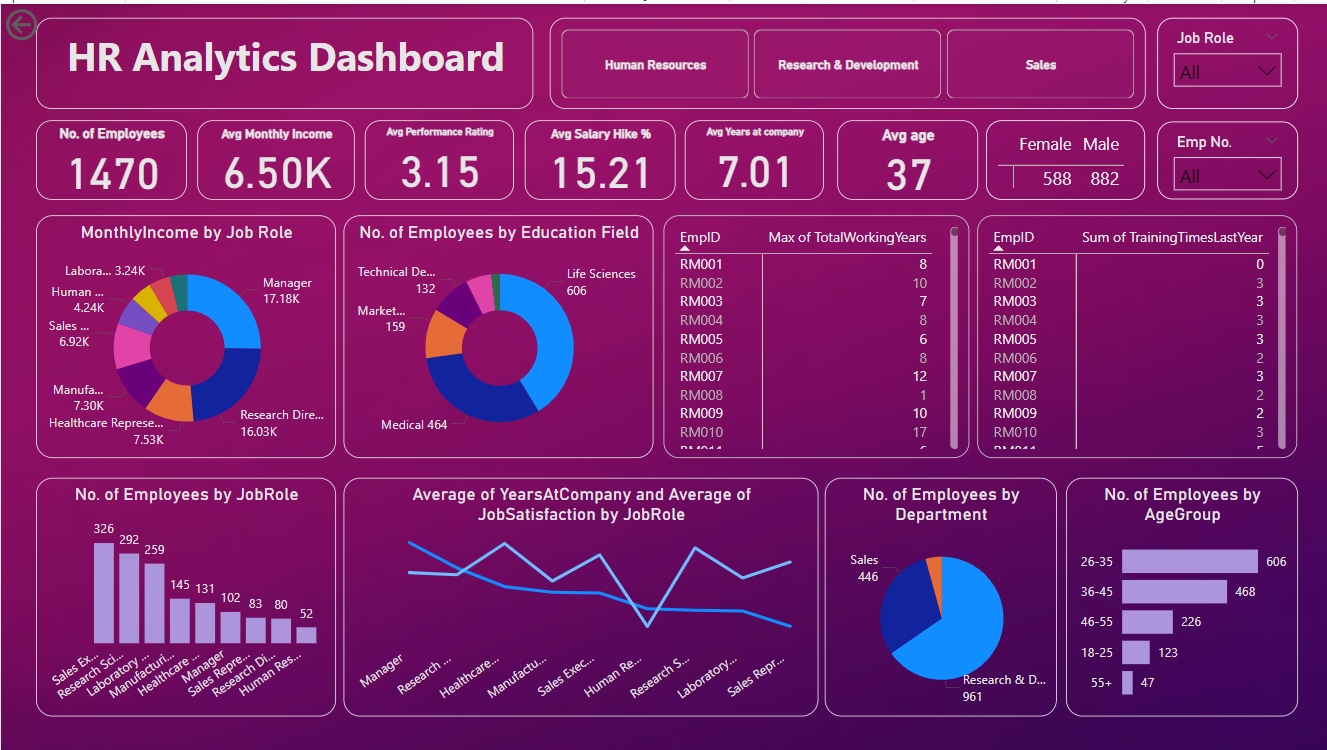

The page's visual inventory and layout, read from the dashboard file:
{"tool":"powerbi","page":{"name":"HR_Analytics","canvas":[1280,720],"ordinal":0},"visuals":[{"type":"card","title":"No. of Employees","fields":{"Values":["Count(HR_Analytics.EmpID)"]},"box":[34.3,112.5,145.5,76.8],"z":0},{"type":"card","title":"Avg Monthly Income","fields":{"Values":["Avg(HR_Analytics.MonthlyIncome)"]},"box":[189.4,112.5,152.3,76.8],"z":1000},{"type":"card","title":"Avg Salary Hike %","fields":{"Values":["Avg(HR_Analytics.PercentSalaryHike)"]},"box":[505,112.5,145.5,76.8],"z":2000},{"type":"card","title":"Avg Performance Rating","fields":{"Values":["Avg(HR_Analytics.PerformanceRating)"]},"box":[351.3,112.5,144.1,76.8],"z":3000},{"type":"card","title":"Avg Years at company","fields":{"Values":["Avg(HR_Analytics.YearsAtCompany)"]},"box":[660,112.5,134.5,76.8],"z":4000},{"type":"card","title":"Avg age","fields":{"Values":["Avg(HR_Analytics.Age)"]},"box":[806.9,112.5,135.8,76.8],"z":5000},{"type":"donutChart","title":"MonthlyIncome by Job Role","fields":{"Category":["HR_Analytics.JobRole"],"Y":["Avg(HR_Analytics.MonthlyIncome)"]},"box":[34.3,204.5,289.5,234.6],"z":6000},{"type":"donutChart","title":"No. of Employees by Education Field","fields":{"Y":["Sum(HR_Analytics.EmployeeCount)"],"Category":["HR_Analytics.EducationField"]},"box":[330.7,204.5,299.1,234.6],"z":7000},{"type":"columnChart","title":"No. of Employees by JobRole","fields":{"Category":["HR_Analytics.JobRole"],"Y":["CountNonNull(HR_Analytics.EmpID)"]},"box":[34.3,456.9,289.5,230.5],"z":8000},{"type":"lineChart","fields":{"Y":["Avg(HR_Analytics.YearsAtCompany)"],"Y2":["Avg(HR_Analytics.JobSatisfaction)"],"Category":["HR_Analytics.JobRole"]},"box":[330.7,456.9,458.3,230.5],"z":9000},{"type":"pivotTable","fields":{"Values":["Max(HR_Analytics.TotalWorkingYears)"],"Rows":["HR_Analytics.EmpID"]},"box":[639.5,204.5,295,234.6],"z":10000},{"type":"pivotTable","fields":{"Columns":["HR_Analytics.Gender"],"Values":["Sum(HR_Analytics.EmployeeCount)"]},"box":[950.9,112.5,153.7,76.8],"z":11000},{"type":"textbox","box":[34.3,13.7,480.3,87.8],"z":12000},{"type":"advancedSlicerVisual","fields":{"Values":["HR_Analytics.Department"]},"box":[529.7,13.7,575,87.8],"z":13000},{"type":"slicer","fields":{"Values":["HR_Analytics.JobRole"]},"box":[1115.6,13.7,135.8,87.8],"z":14000},{"type":"barChart","title":"No. of Employees by AgeGroup","fields":{"Category":["HR_Analytics.AgeGroup"],"Y":["CountNonNull(HR_Analytics.EmpID)"]},"box":[1027.8,456.9,223.7,230.5],"z":15000},{"type":"pivotTable","fields":{"Rows":["HR_Analytics.EmpID"],"Values":["Sum(HR_Analytics.TrainingTimesLastYear)"]},"box":[942.7,204.5,308.7,234.6],"z":16000},{"type":"actionButton","box":[0,0,100,40],"z":17000},{"type":"slicer","fields":{"Values":["HR_Analytics.EmployeeNumber"]},"box":[1115.6,113.9,135.8,75.5],"z":18000},{"type":"pieChart","title":"No. of Employees by Department","fields":{"Category":["HR_Analytics.Department"],"Y":["CountNonNull(HR_Analytics.EmpID)"]},"box":[794.5,456.9,223.7,230.5],"z":19000}]}

Visuals, with their boxes in screenshot pixels (x1, y1, x2, y2), scaled from the page's 1280x720 canvas onto the 1327x750 screenshot:
"No. of Employees" card: 36, 117, 186, 197
"Avg Monthly Income" card: 196, 117, 354, 197
"Avg Salary Hike %" card: 524, 117, 674, 197
"Avg Performance Rating" card: 364, 117, 514, 197
"Avg Years at company" card: 684, 117, 824, 197
"Avg age" card: 837, 117, 977, 197
"MonthlyIncome by Job Role" donutChart: 36, 213, 336, 457
"No. of Employees by Education Field" donutChart: 343, 213, 653, 457
"No. of Employees by JobRole" columnChart: 36, 476, 336, 716
lineChart - Avg(HR_Analytics.YearsAtCompany) x Avg(HR_Analytics.JobSatisfaction): 343, 476, 818, 716
pivotTable - Max(HR_Analytics.TotalWorkingYears) x HR_Analytics.EmpID: 663, 213, 969, 457
pivotTable - HR_Analytics.Gender x Sum(HR_Analytics.EmployeeCount): 986, 117, 1145, 197
textbox: 36, 14, 533, 106
advancedSlicerVisual - HR_Analytics.Department: 549, 14, 1145, 106
slicer - HR_Analytics.JobRole: 1157, 14, 1297, 106
"No. of Employees by AgeGroup" barChart: 1066, 476, 1297, 716
pivotTable - HR_Analytics.EmpID x Sum(HR_Analytics.TrainingTimesLastYear): 977, 213, 1297, 457
actionButton: 0, 0, 104, 42
slicer - HR_Analytics.EmployeeNumber: 1157, 119, 1297, 197
"No. of Employees by Department" pieChart: 824, 476, 1056, 716
